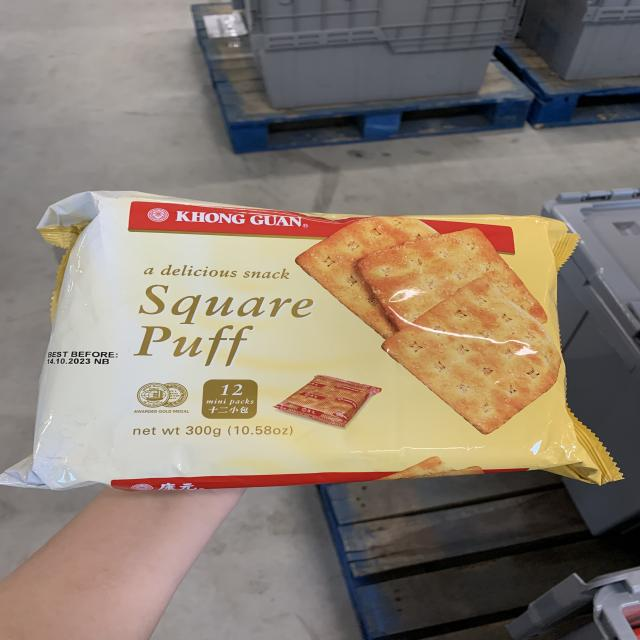object_name: (53, 198, 567, 475)
